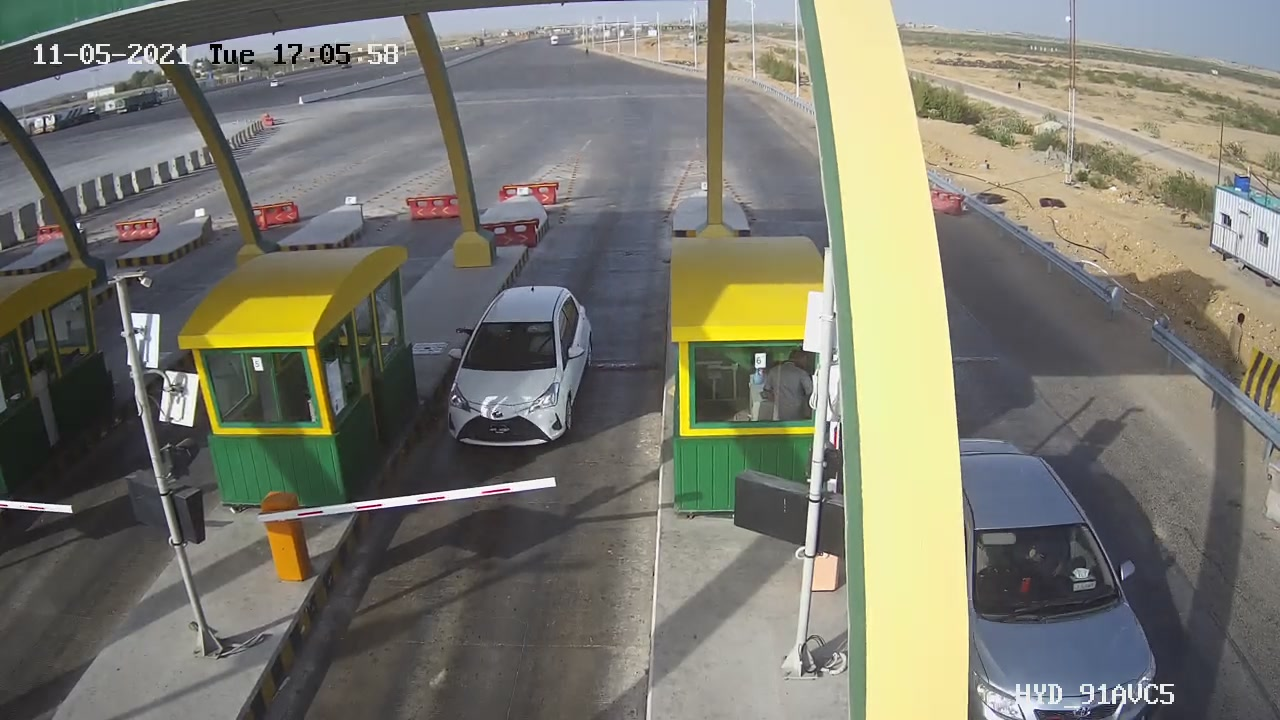F1: (429, 268, 603, 462)
